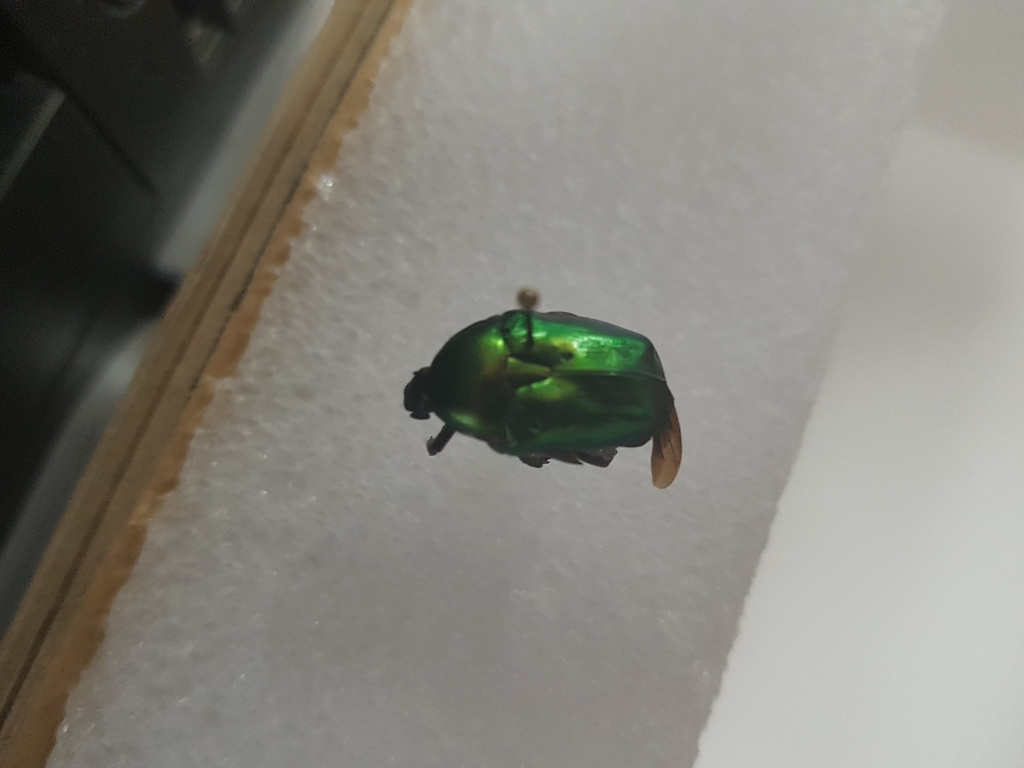Protaetia_cuprea_ignicollis: (382, 295, 713, 494)
